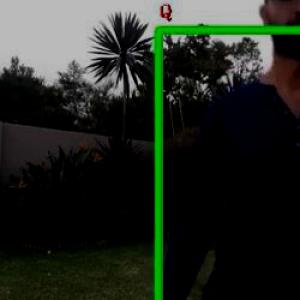follow: (187, 0, 299, 299)
